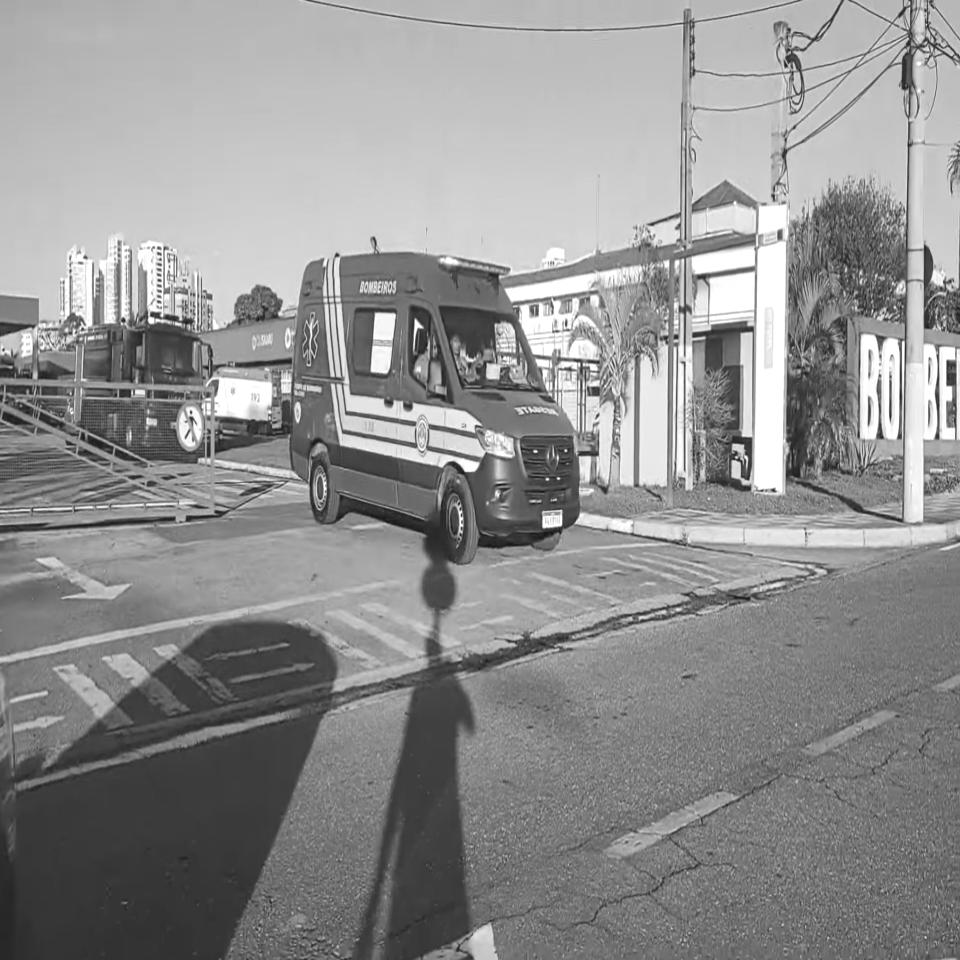bombeiro: (289, 252, 580, 564)
